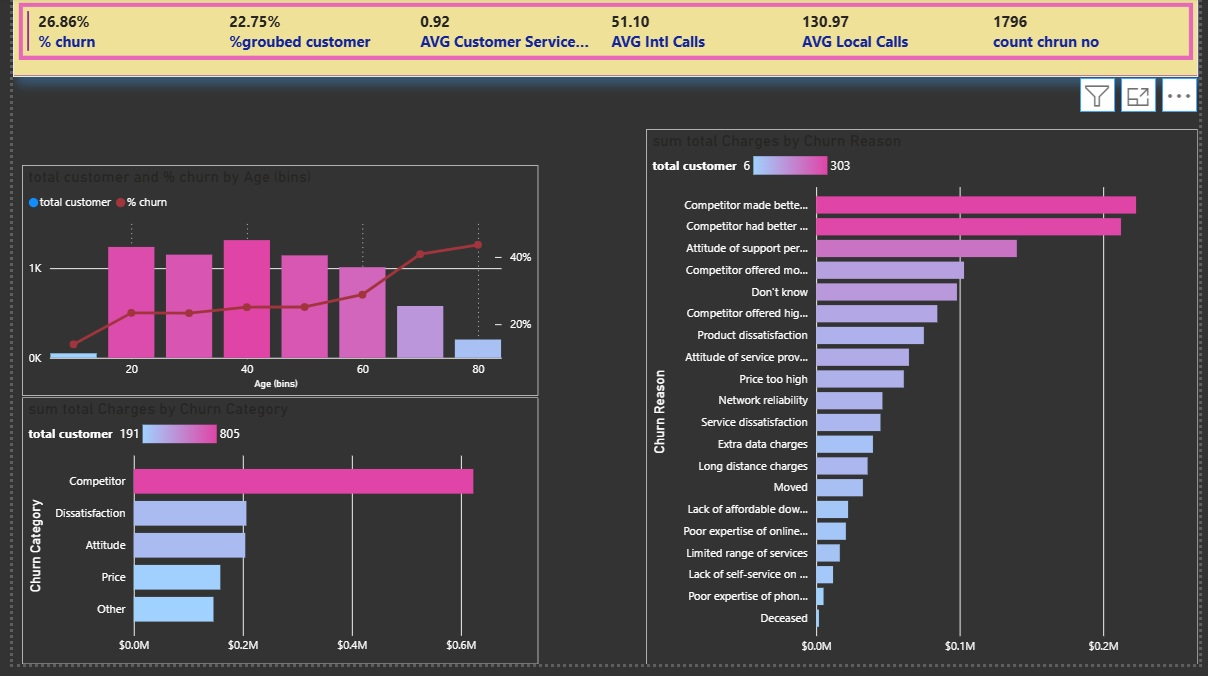

This screenshot's page, from the dashboard's own definition file:
{"tool":"powerbi","page":{"name":"reason of churn","canvas":[1280,720],"ordinal":1},"visuals":[{"type":"multiRowCard","fields":{"Values":["Databel - Data.% churn","Databel - Data.%groubed customer","Databel - Data.AVG Customer Service Call","Databel - Data.AVG Intl Calls","Databel - Data.AVG Local Calls","Databel - Data.count chrun no"]},"box":[0,0,1279.4,85],"z":0},{"type":"lineStackedColumnComboChart","fields":{"Y":["Databel - Data.total customer"],"Y2":["Databel - Data.% churn"],"Category":["Databel - Data.Age (bins)"]},"box":[9.4,181.4,557.5,249.5],"z":1000},{"type":"clusteredBarChart","fields":{"Category":["Databel - Data.Churn Reason"],"Y":["Databel - Data.sum total Charges"]},"box":[684.1,141.7,595.3,578.3],"z":2000},{"type":"clusteredBarChart","fields":{"Y":["Databel - Data.sum total Charges"],"Category":["Databel - Data.Churn Category"]},"box":[9,432,557,288],"z":3000}]}

Visuals, with their boxes in screenshot pixels (x1, y1, x2, y2), scaled from the page's 1280x720 canvas onto the 1208x676 screenshot:
multiRowCard - Databel - Data.% churn x Databel - Data.%groubed customer: select_region(0, 0, 1207, 80)
lineStackedColumnComboChart - Databel - Data.total customer x Databel - Data.% churn: select_region(9, 170, 535, 405)
clusteredBarChart - Databel - Data.Churn Reason x Databel - Data.sum total Charges: select_region(646, 133, 1207, 675)
clusteredBarChart - Databel - Data.sum total Charges x Databel - Data.Churn Category: select_region(8, 406, 534, 675)
